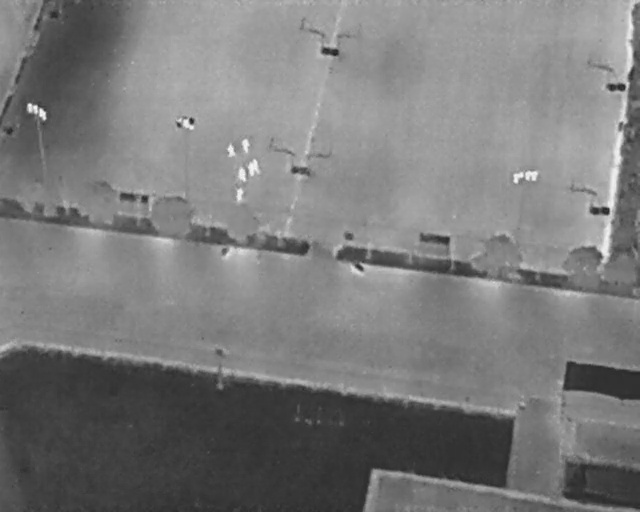Person: (252, 158, 261, 176), (241, 138, 251, 154), (238, 166, 247, 183), (247, 161, 255, 177), (236, 187, 244, 203), (227, 143, 236, 157)
